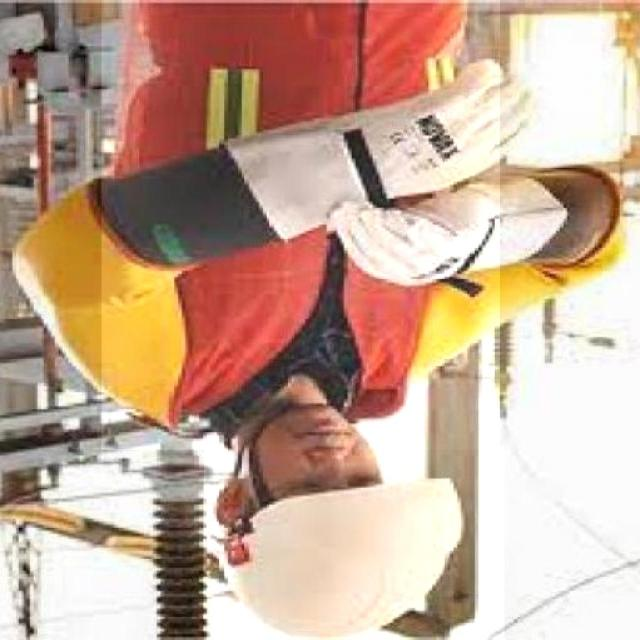Helmet: (204, 445, 504, 640)
Safety Vest: (102, 0, 500, 450)
